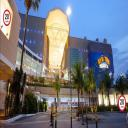speed_limit_20: (3, 9, 11, 26), (118, 95, 126, 112)
